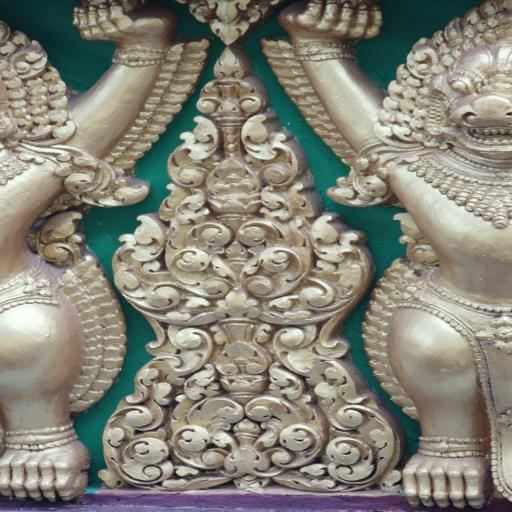la: (121, 55, 360, 317), (111, 315, 386, 494)
than: (308, 13, 512, 507), (0, 0, 197, 490)
